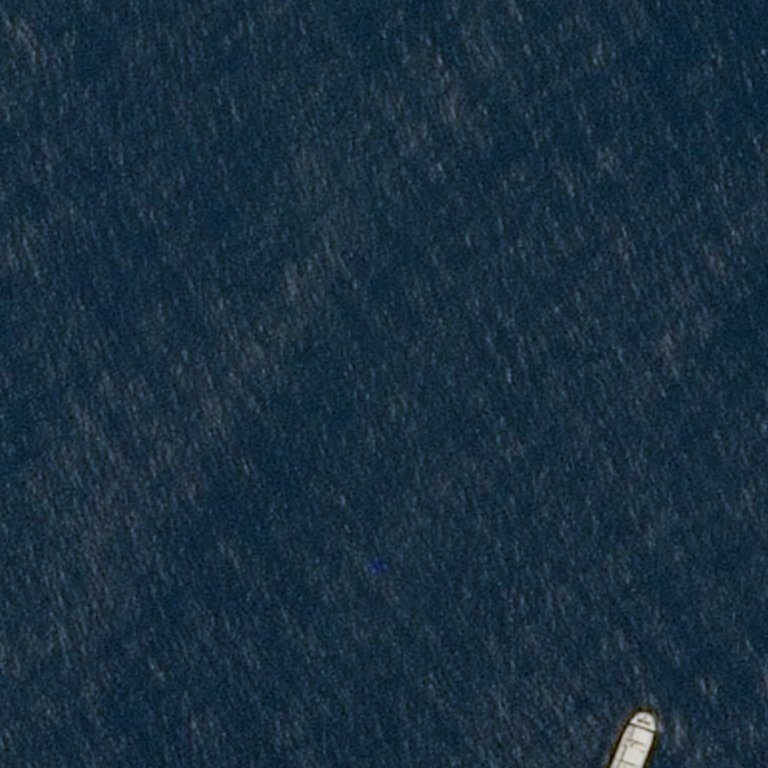ship: (607, 712, 655, 767)
